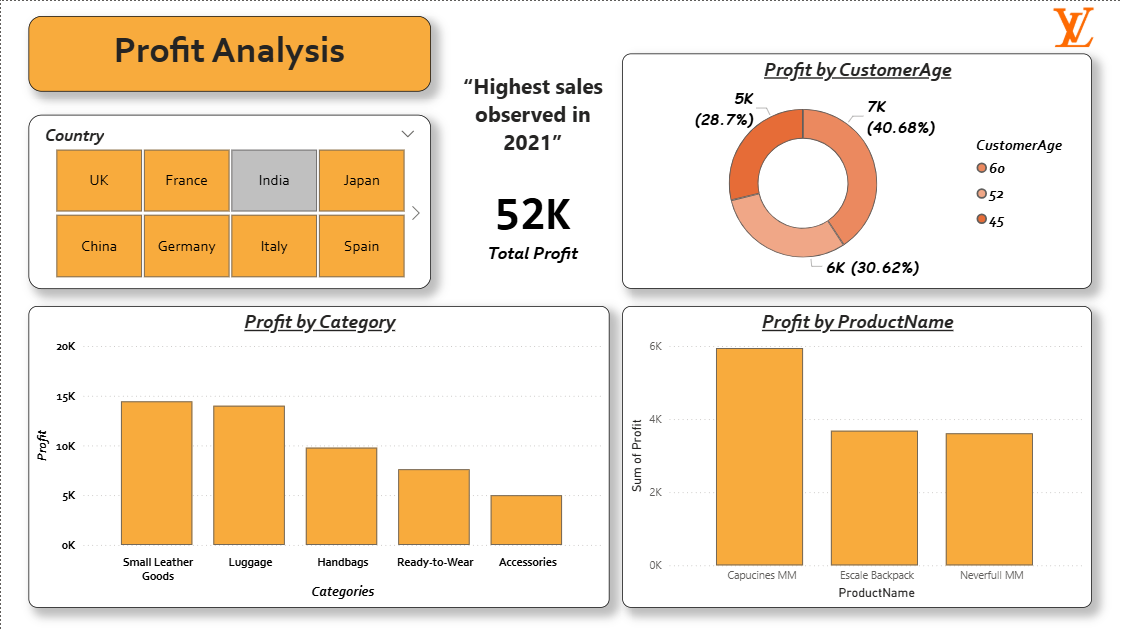

This screenshot's page, from the dashboard's own definition file:
{"tool":"powerbi","page":{"name":"Profit","canvas":[1280,720],"ordinal":2},"visuals":[{"type":"image","box":[1170.5,0,108.4,60.4],"z":0},{"type":"textbox","box":[31.6,17.8,459.7,86.4],"z":1000},{"type":"columnChart","title":"Profit by Category","fields":{"Category":["Sheet1.Category"],"Y":["Sum(Sheet1.Profit)"]},"box":[31.6,348.5,664.2,344.4],"z":2000},{"type":"columnChart","title":"Profit by ProductName","fields":{"Category":["Sheet1.ProductName"],"Y":["Sum(Sheet1.Profit)"]},"box":[709.4,348.5,536.5,344.4],"z":3000},{"type":"card","fields":{"Values":["Sum(Sheet1.Profit)"]},"box":[520.1,172.9,175.6,156.4],"z":4000},{"type":"donutChart","title":"Profit by CustomerAge","fields":{"Y":["Sum(Sheet1.Profit)"],"Category":["Sheet1.CustomerAge"]},"box":[709.4,60.4,536.5,269],"z":5000},{"type":"slicer","fields":{"Values":["Sheet1.Country"]},"box":[31.6,130.4,459.7,199],"z":6000},{"type":"textbox","box":[520,75.7,175.7,118.6],"z":6001}]}

Visuals, with their boxes in screenshot pixels (x1, y1, x2, y2), scaled from the page's 1280x720 canvas onto the 1121x630 screenshot:
image: Rect(1025, 0, 1120, 53)
textbox: Rect(28, 16, 430, 91)
"Profit by Category" columnChart: Rect(28, 305, 609, 606)
"Profit by ProductName" columnChart: Rect(621, 305, 1091, 606)
card - Sum(Sheet1.Profit): Rect(455, 151, 609, 288)
"Profit by CustomerAge" donutChart: Rect(621, 53, 1091, 288)
slicer - Sheet1.Country: Rect(28, 114, 430, 288)
textbox: Rect(455, 66, 609, 170)
